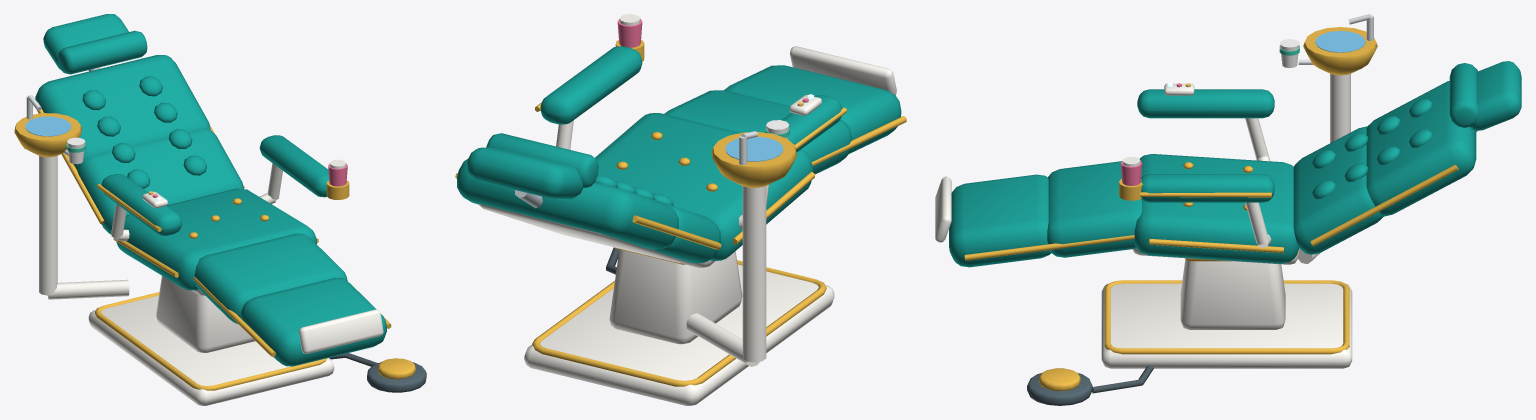
The model's file is chair_deluxe.glb.
The picture shows the model from 3 angles, left to right: view 1: azimuth 30°, elevation 25°; view 2: azimuth 150°, elevation 25°; view 3: azimuth 270°, elevation 25°; orthographic projection. The views are drawn at different scales.
Visible parts, largest first — view 1: Chair; view 2: Chair; view 3: Chair.
Part boxes in pixels (box(x1,y1,x2,y2)): Chair: box(14, 14, 426, 405); Chair: box(455, 14, 906, 405); Chair: box(935, 14, 1521, 405).
Size of the model in its own units: 1.17 by 0.9596 by 1.96.
